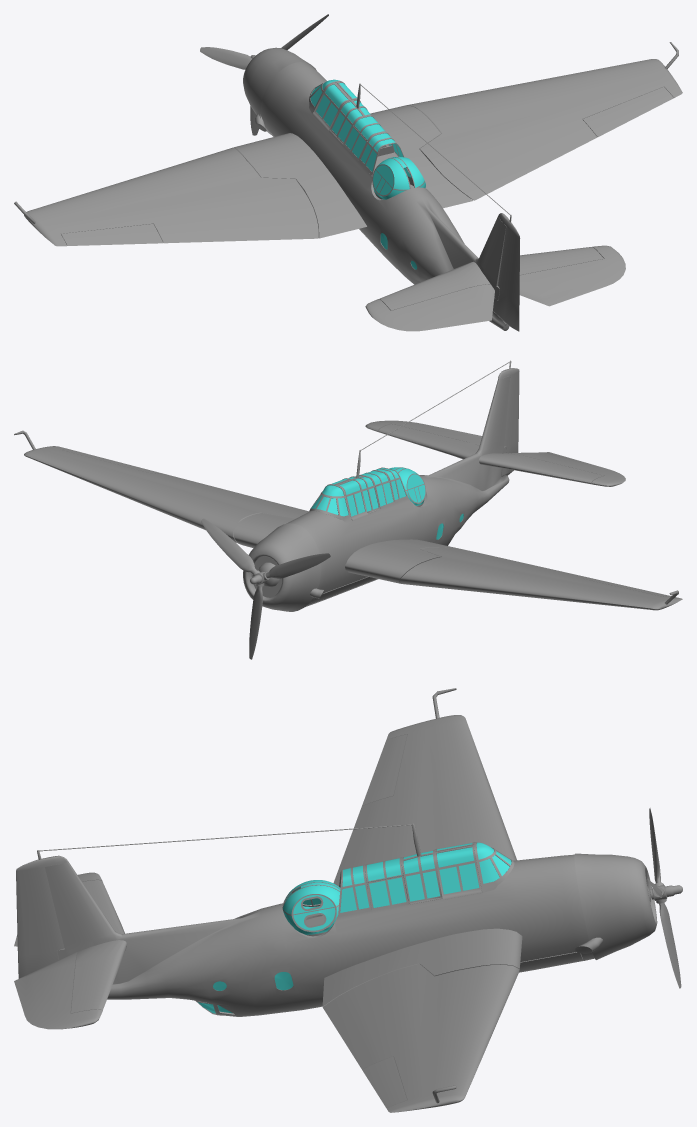
File: TBM-3 Avenger_flight.fbx
3 renders of one model, top to bottom at view 1: azimuth 30°, elevation 25°; view 2: azimuth 150°, elevation 25°; view 3: azimuth 270°, elevation 25°, orthographic. The views are drawn at different scales.
Visible parts, largest first — view 1: Bodywork.001, elevators.005, elevators.000, slider_R_2.000, rudder.001, aileron_L.002, aileron_L.001, slider_R_2.006, spinner.001; view 2: Bodywork.001, spinner.001, slider_R_2.000, rudder.001, elevators.005, elevators.000, slider_R_2.006; view 3: Bodywork.001, slider_R_2.000, rudder.001, elevators.000, slider_R_2.006, aileron_L.001, spinner.001, aileron_L.002, frame.001, slider_R.001.
Part boxes in pixels (<box>): Bodywork.001: <box>14,42,682,330</box>; elevators.005: <box>365,284,494,331</box>; elevators.000: <box>519,245,625,306</box>; slider_R_2.000: <box>310,79,417,269</box>; rudder.001: <box>493,213,520,331</box>; aileron_L.002: <box>582,87,673,136</box>; aileron_L.001: <box>61,224,163,245</box>; slider_R_2.006: <box>373,156,425,199</box>; spinner.001: <box>200,14,328,135</box>; Bodywork.001: <box>14,361,682,611</box>; spinner.001: <box>201,518,330,659</box>; slider_R_2.000: <box>311,468,463,539</box>; rudder.001: <box>498,360,519,476</box>; elevators.005: <box>502,452,625,486</box>; elevators.000: <box>365,420,482,445</box>; slider_R_2.006: <box>380,467,425,505</box>; Bodywork.001: <box>39,688,657,1112</box>; slider_R_2.000: <box>198,842,511,1013</box>; rudder.001: <box>16,850,68,978</box>; elevators.000: <box>14,952,102,1029</box>; slider_R_2.006: <box>283,880,340,934</box>; aileron_L.001: <box>362,734,407,805</box>; spinner.001: <box>647,808,682,988</box>; aileron_L.002: <box>362,1056,407,1107</box>; frame.001: <box>282,882,339,936</box>; slider_R.001: <box>435,845,482,899</box>.
Bounding box in the file's own units: 1745 × 1236 × 389.
